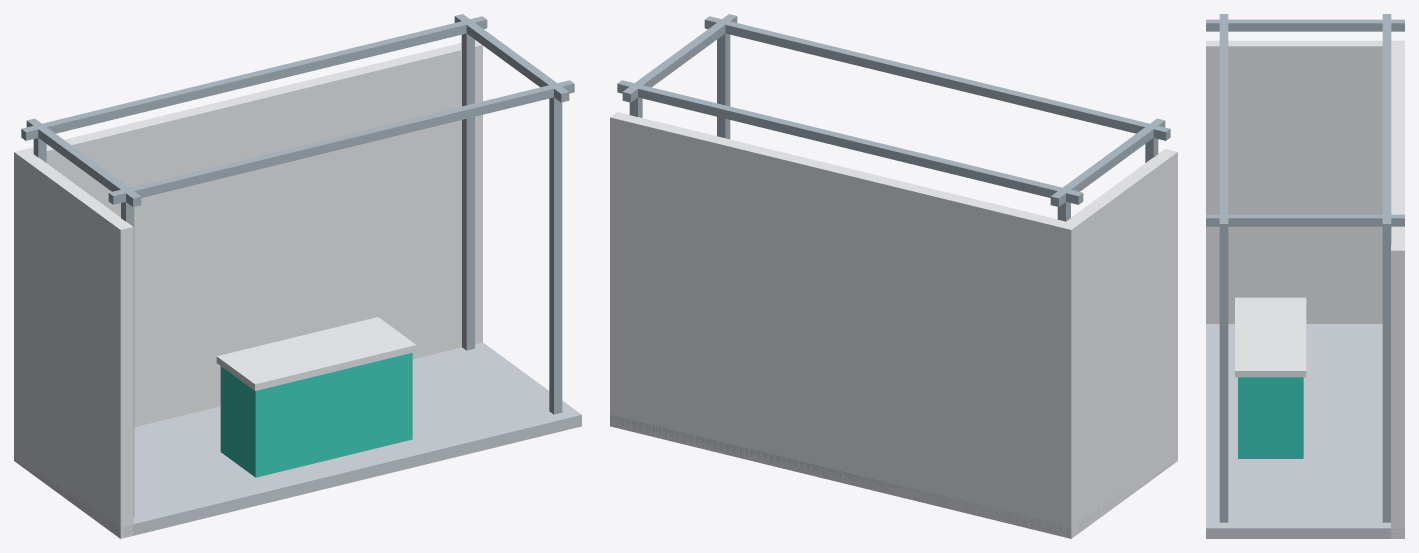
The picture shows the model from 3 angles, left to right: view 1: azimuth 30°, elevation 25°; view 2: azimuth 150°, elevation 25°; view 3: azimuth 270°, elevation 25°; orthographic projection. The views are drawn at different scales.
Parts seen in each view (by area): view 1: Exhibition Booth Concept; view 2: Exhibition Booth Concept; view 3: Exhibition Booth Concept.
Boxes of the visible parts, x1=… form: Exhibition Booth Concept: x1=14, y1=14, x2=581, y2=538; Exhibition Booth Concept: x1=610, y1=14, x2=1177, y2=538; Exhibition Booth Concept: x1=1206, y1=14, x2=1404, y2=538.
Bounding box in the file's own units: 5 × 3.49 × 2.
